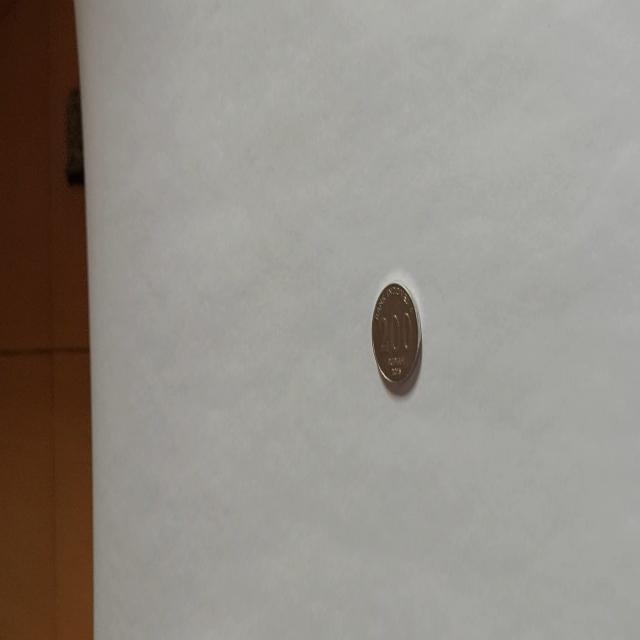dua ratus rupiah: (371, 279, 422, 388)
